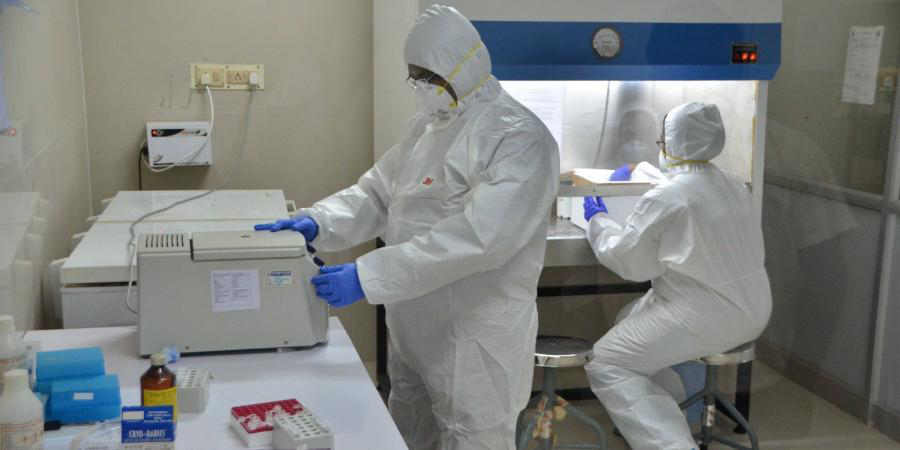Coverall: (307, 3, 557, 448), (584, 101, 773, 446)
Gloves: (310, 259, 364, 306), (252, 214, 316, 245), (581, 196, 609, 216)
with_mask: (406, 62, 456, 125), (658, 139, 679, 174)
